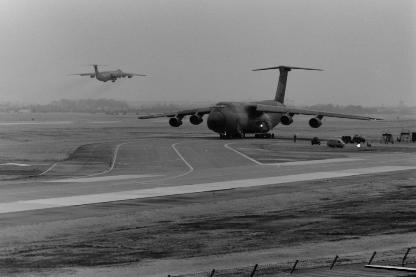C17: (136, 65, 384, 138), (66, 64, 146, 82)
